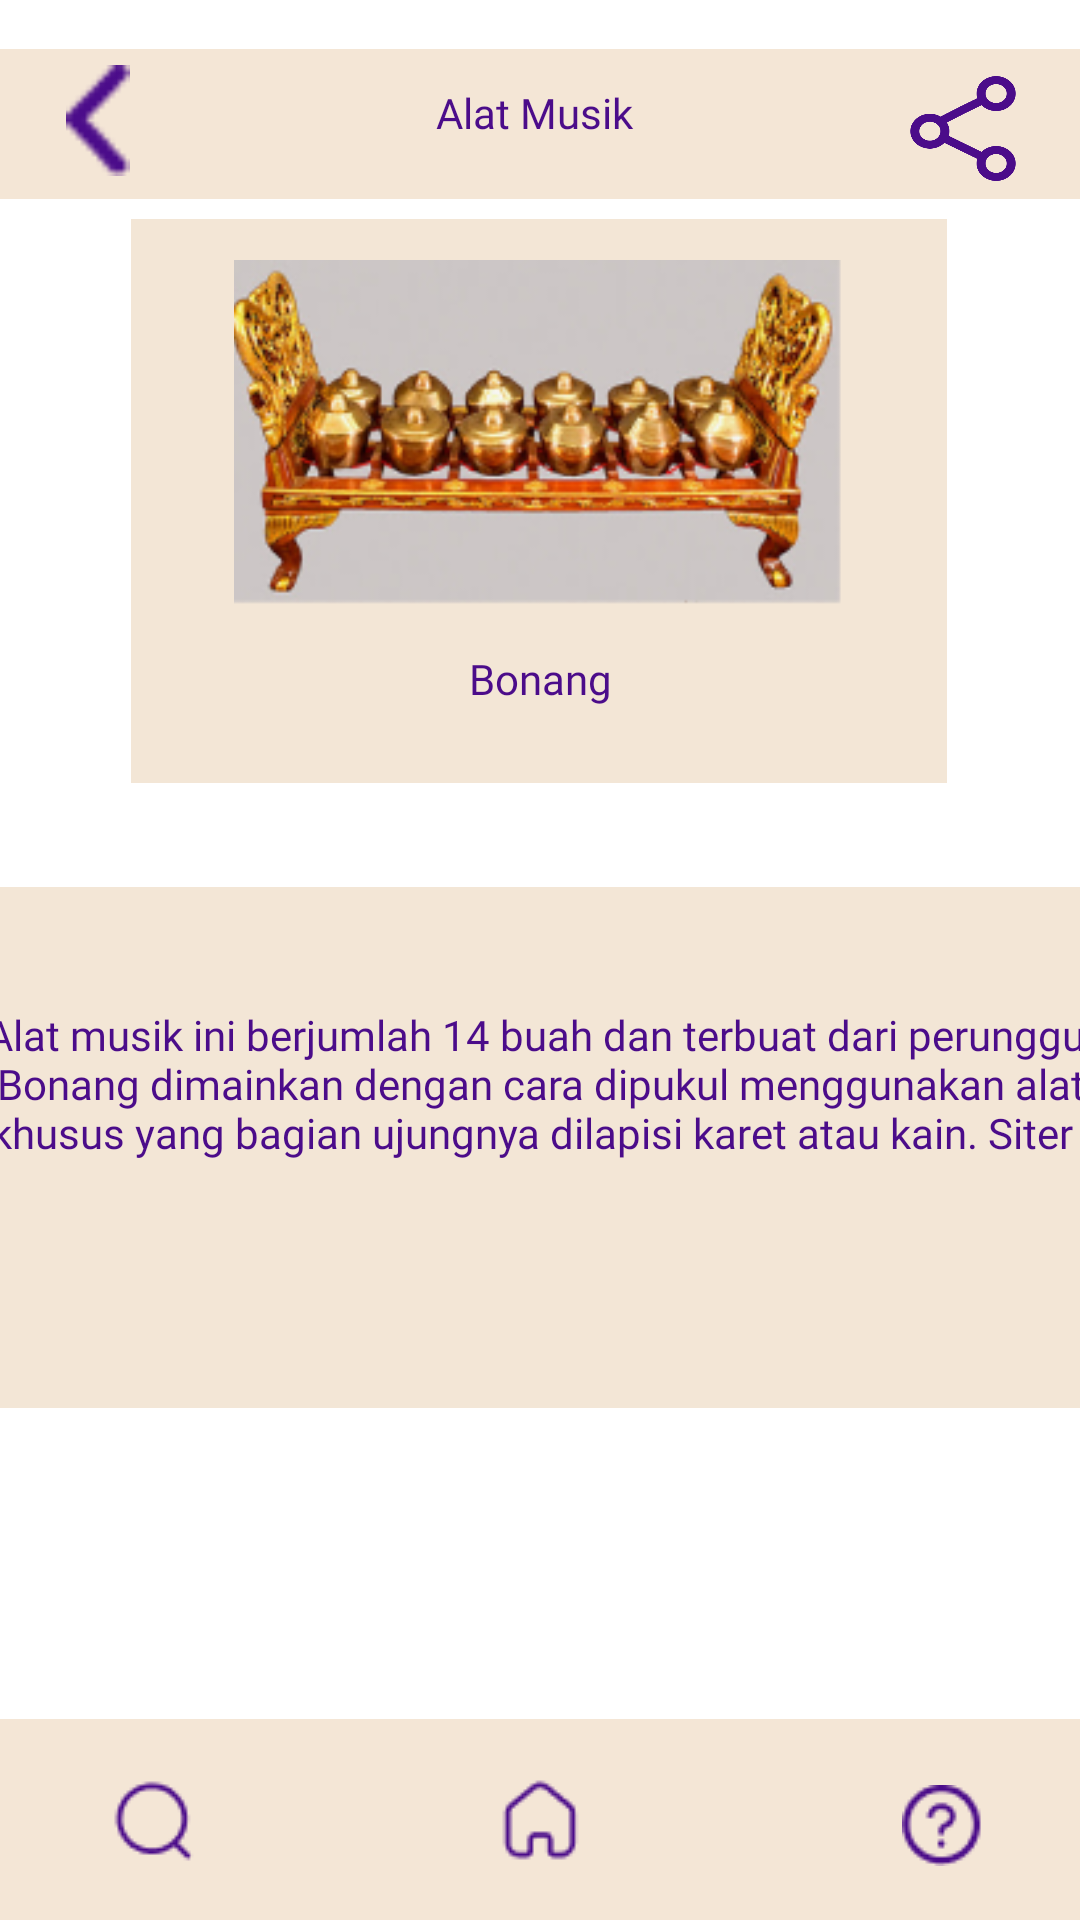

Screen size 1080px x 1920px. Icon name, then its box in pixels as [left=x1, top=y1, right=x2, bottom=y2]:
homeee: [left=503, top=1780, right=577, bottom=1860]
share: [left=910, top=76, right=1016, bottom=181]
tanya: [left=902, top=1785, right=981, bottom=1866]
xearch: [left=114, top=1781, right=191, bottom=1861]
